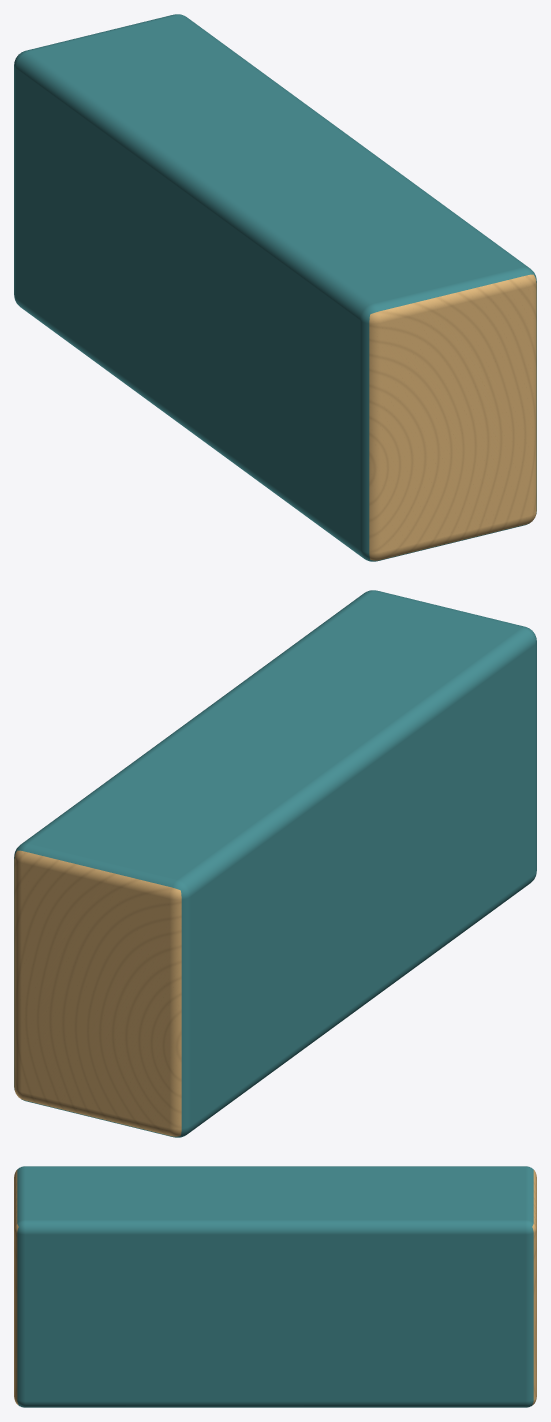
Rendered from editor-source.glb.
The picture shows the model from 3 angles, top to bottom: view 1: azimuth 30°, elevation 25°; view 2: azimuth 150°, elevation 25°; view 3: azimuth 270°, elevation 25°; orthographic projection. The views are drawn at different scales.
Visible parts, largest first — view 1: Block_Paint_Left, Block_Paint_Top, Block_Wood_End_Front; view 2: Block_Paint_Left, Block_Paint_Top, Block_Wood_End_Back; view 3: Block_Painted_Body, Block_Paint_Top, Block_Wood_End_Front, Block_Wood_End_Back, Block_Paint_Bottom.
Part boxes in pixels (x1=…): Block_Paint_Left: x1=14, y1=56, x2=369, y2=559; Block_Paint_Top: x1=17, y1=14, x2=533, y2=314; Block_Wood_End_Front: x1=369, y1=274, x2=536, y2=560; Block_Paint_Left: x1=181, y1=632, x2=536, y2=1135; Block_Paint_Top: x1=17, y1=590, x2=533, y2=890; Block_Wood_End_Back: x1=14, y1=850, x2=181, y2=1136; Block_Painted_Body: x1=17, y1=1226, x2=533, y2=1407; Block_Paint_Top: x1=17, y1=1166, x2=533, y2=1226; Block_Wood_End_Front: x1=14, y1=1170, x2=18, y2=1404; Block_Wood_End_Back: x1=532, y1=1170, x2=536, y2=1404; Block_Paint_Bottom: x1=18, y1=1405, x2=532, y2=1407.
Bounding box in the file's own units: 0.052 × 0.073 × 0.185.
Materials: 2 (1 with a texture image).
